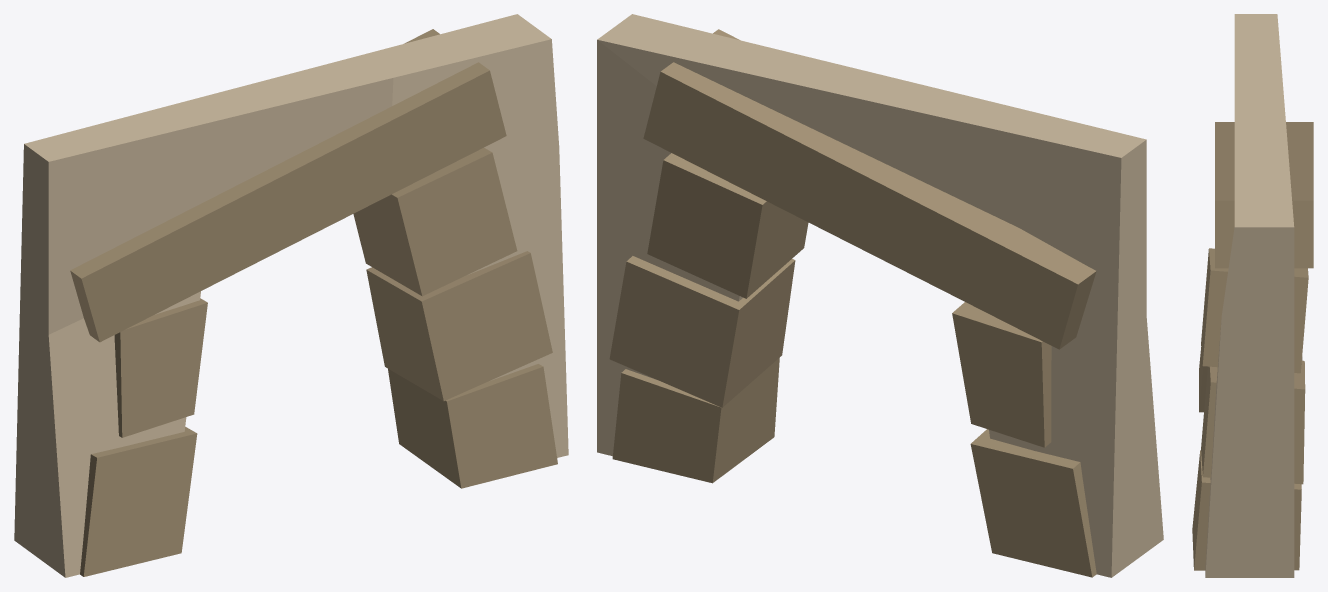
File: LightSandStoneWallSmallCrookedDoorway1.fbx
3 views of the same model, side by side, from view 1: azimuth 30°, elevation 25°; view 2: azimuth 150°, elevation 25°; view 3: azimuth 270°, elevation 25° (orthographic). The views are drawn at different scales.
Visible parts, largest first — view 1: DoorwayBricks, Wall; view 2: DoorwayBricks, Wall; view 3: Wall, DoorwayBricks.
Boxes of the visible parts, x1,y1,x2,y2 form: DoorwayBricks: [70, 29, 557, 576]; Wall: [14, 14, 568, 577]; DoorwayBricks: [609, 29, 1096, 577]; Wall: [597, 14, 1163, 577]; Wall: [1205, 14, 1294, 577]; DoorwayBricks: [1192, 122, 1313, 570].
Bounding box in the file's own units: 600 × 460 × 144.
